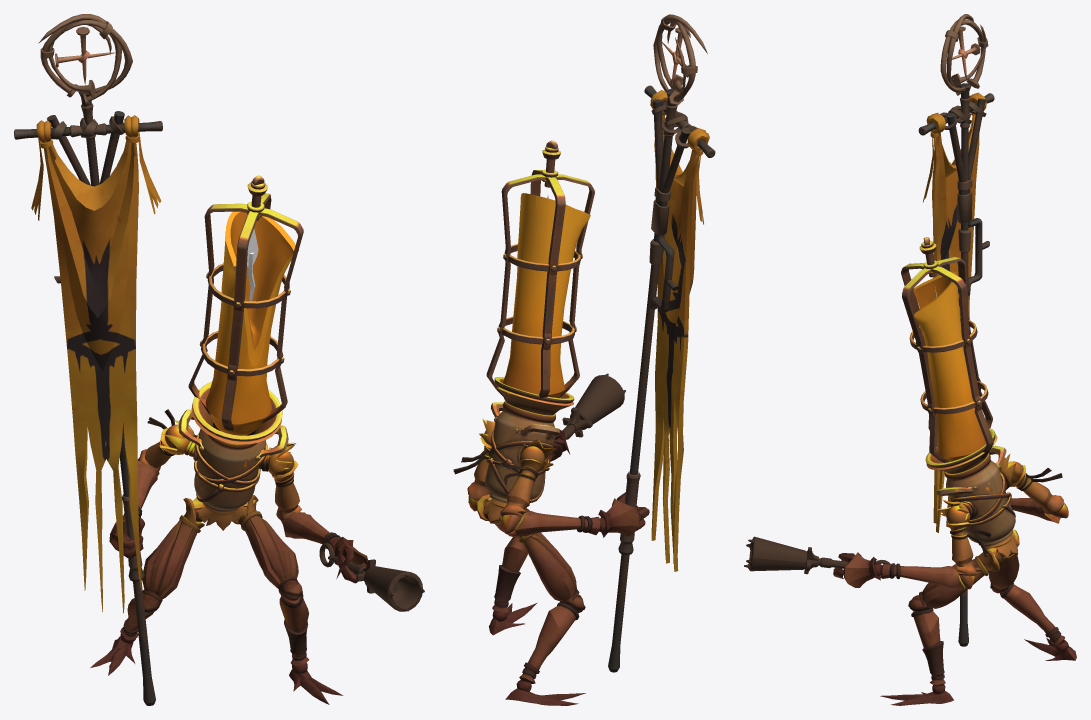
The model's file is Amber_Medic.glb.
3 views of the same model, side by side, from view 1: azimuth 30°, elevation 25°; view 2: azimuth 150°, elevation 25°; view 3: azimuth 270°, elevation 25° (orthographic). The views are drawn at different scales.
Parts seen in each view (by area): view 1: models\npc_units\troopers\amber_medic_01\amber_medic_01.vmdl (×3); view 2: models\npc_units\troopers\amber_medic_01\amber_medic_01.vmdl (×3); view 3: models\npc_units\troopers\amber_medic_01\amber_medic_01.vmdl (×3).
Part boxes in pixels (bbox=[...]): models\npc_units\troopers\amber_medic_01\amber_medic_01.vmdl (×3): bbox=[14, 14, 424, 705]; models\npc_units\troopers\amber_medic_01\amber_medic_01.vmdl (×3): bbox=[453, 14, 715, 705]; models\npc_units\troopers\amber_medic_01\amber_medic_01.vmdl (×3): bbox=[744, 14, 1076, 705].
Bounding box in the file's own units: 1.3 × 3.2 × 1.6.
6 materials, 3 textured.
